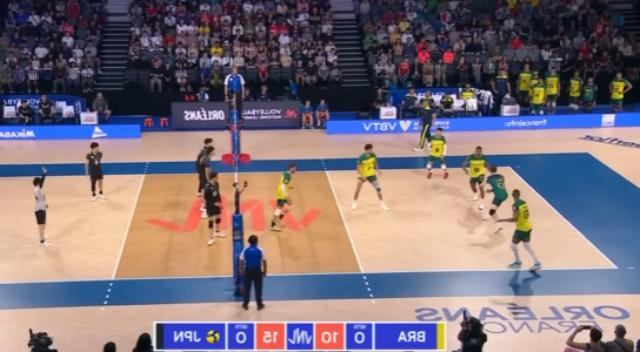Levantador: (256, 152, 306, 244), (82, 132, 116, 213)
Libero: (23, 158, 69, 258), (476, 162, 512, 242)
